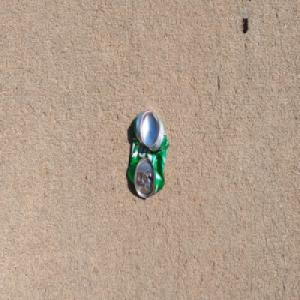SodaCan: (126, 108, 169, 201)
